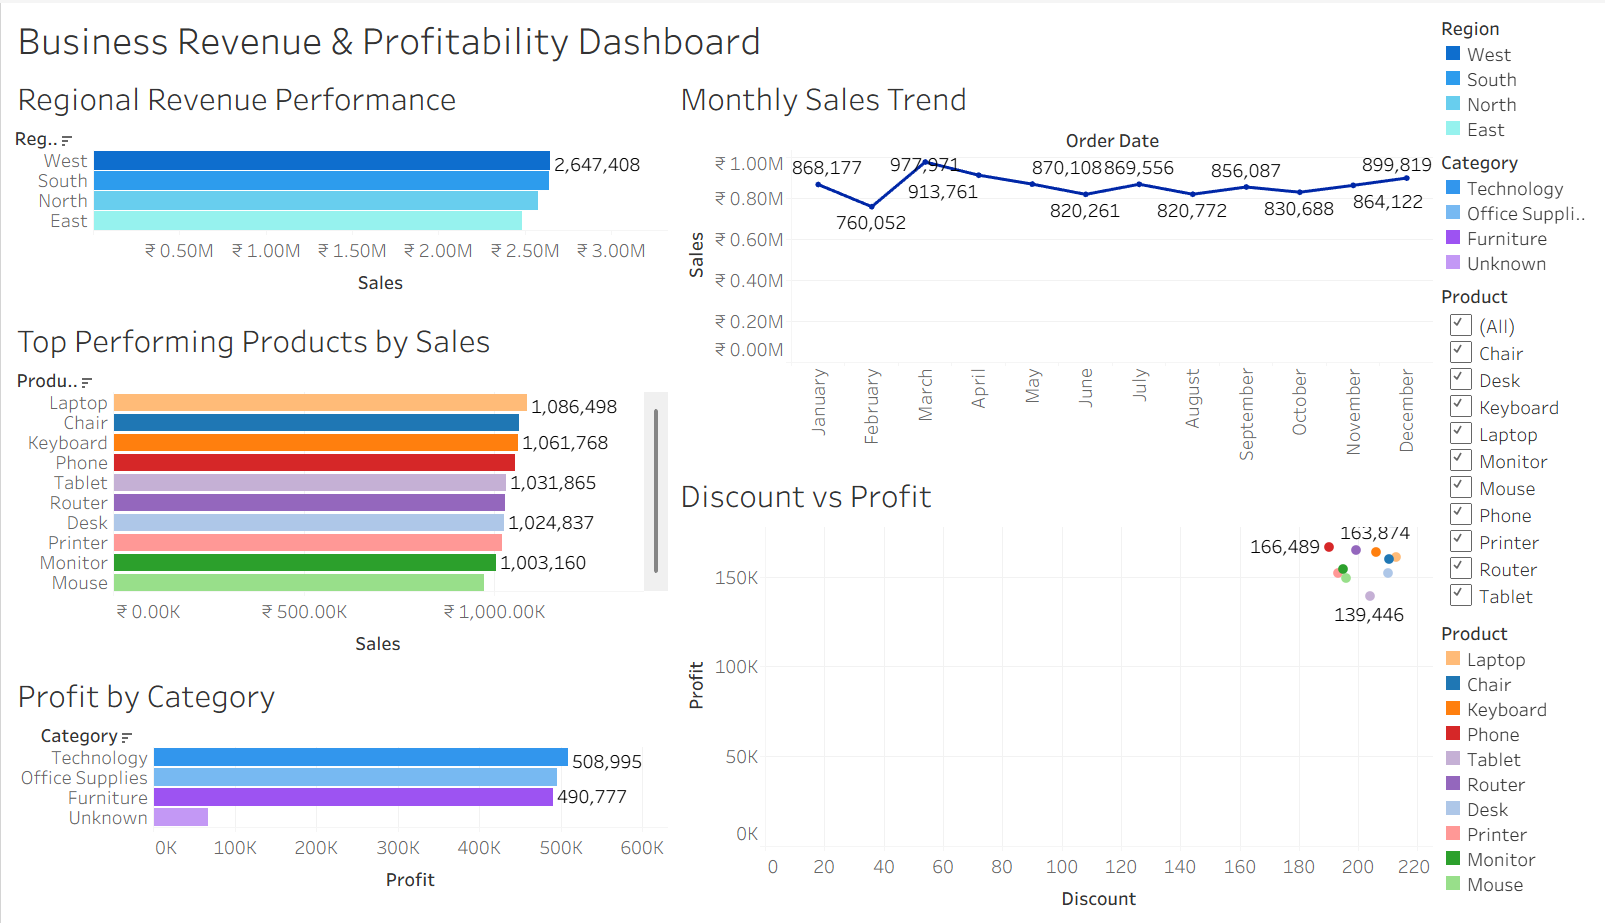

What the dashboard file says about the page in this screenshot:
{"tool":"tableau","page":{"name":"Business Revenue & Profitability Dashboard","canvas":[1000,1000],"units":"permille","ordinal":0},"visuals":[{"type":"title","box":[5,8.6,890.3,62.6]},{"type":"legend","title":"Sheet 1","param":"[federated.0d851tq152yqjh12lfb5x0fbi3qe].[none:Region:nk]","box":[895.3,8.6,99.8,144.7]},{"type":"worksheet","title":"Sheet 1","mark":"Automatic","rows":["Region"],"cols":["Sales"],"box":[5,71.3,413.3,261.3]},{"type":"worksheet","title":"Sheet 3","mark":"Automatic","rows":["Sales"],"cols":["Order_Date"],"box":[418.3,71.3,476.9,428.7]},{"type":"legend","title":"Sheet 2","param":"[federated.0d851tq152yqjh12lfb5x0fbi3qe].[none:Category:nk]","box":[895.3,153.3,99.8,144.7]},{"type":"filter","title":"Sheet 4","param":"[federated.0d851tq152yqjh12lfb5x0fbi3qe].[none:Product:nk]","box":[895.3,298.1,99.8,363.9]},{"type":"worksheet","title":"Sheet 4","mark":"Automatic","rows":["Product"],"cols":["Sales"],"box":[5,332.6,413.3,383.4]},{"type":"worksheet","title":"Sheet 5","mark":"Automatic","rows":["Profit"],"cols":["Discount"],"box":[418.3,500,476.9,491.4]},{"type":"legend","title":"Sheet 4","param":"[federated.0d851tq152yqjh12lfb5x0fbi3qe].[none:Product:nk]","box":[895.3,662,99.8,306.7]},{"type":"worksheet","title":"Sheet 2","mark":"Automatic","rows":["Category"],"cols":["Profit"],"box":[5,716,413.3,275.4]}]}

Visuals, with their boxes on the dashboard's canvas, which has no fixed pixel size, in thousandths of its width and height (x1, y1, x2, y2). These are canvas units, not pixel positions in the 1605x923 screenshot, which may show the page scaled, cropped or inside an application window:
title: {"x1": 5, "y1": 9, "x2": 895, "y2": 71}
"Sheet 1" legend: {"x1": 895, "y1": 9, "x2": 995, "y2": 153}
"Sheet 1" worksheet: {"x1": 5, "y1": 71, "x2": 418, "y2": 333}
"Sheet 3" worksheet: {"x1": 418, "y1": 71, "x2": 895, "y2": 500}
"Sheet 2" legend: {"x1": 895, "y1": 153, "x2": 995, "y2": 298}
"Sheet 4" filter: {"x1": 895, "y1": 298, "x2": 995, "y2": 662}
"Sheet 4" worksheet: {"x1": 5, "y1": 333, "x2": 418, "y2": 716}
"Sheet 5" worksheet: {"x1": 418, "y1": 500, "x2": 895, "y2": 991}
"Sheet 4" legend: {"x1": 895, "y1": 662, "x2": 995, "y2": 969}
"Sheet 2" worksheet: {"x1": 5, "y1": 716, "x2": 418, "y2": 991}
